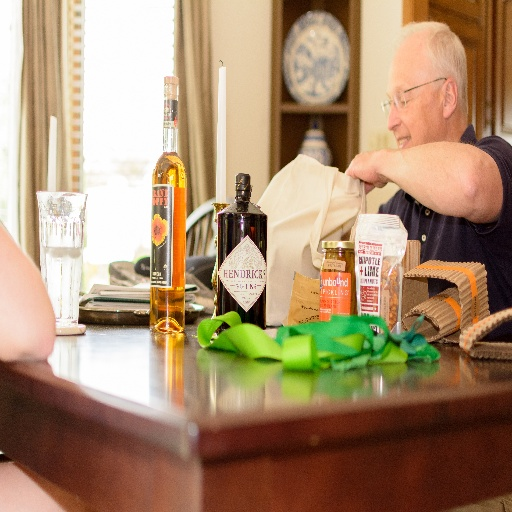hand: (354, 138, 412, 192)
